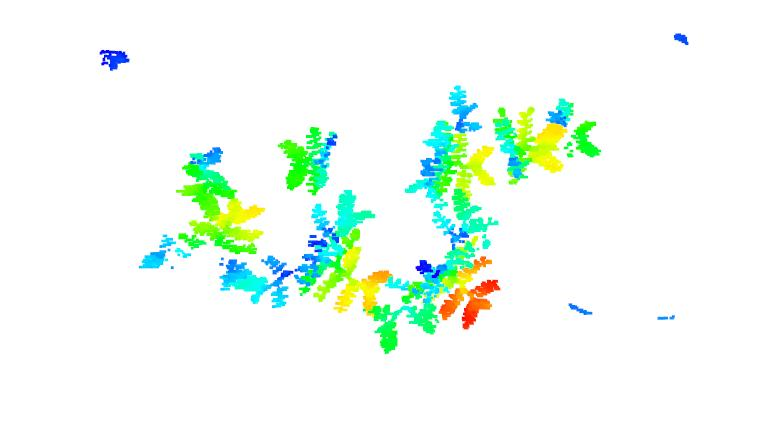chickpea: (210, 189, 386, 311), (133, 145, 264, 267), (371, 235, 499, 353), (405, 82, 498, 236), (488, 97, 605, 188), (271, 121, 346, 194)
